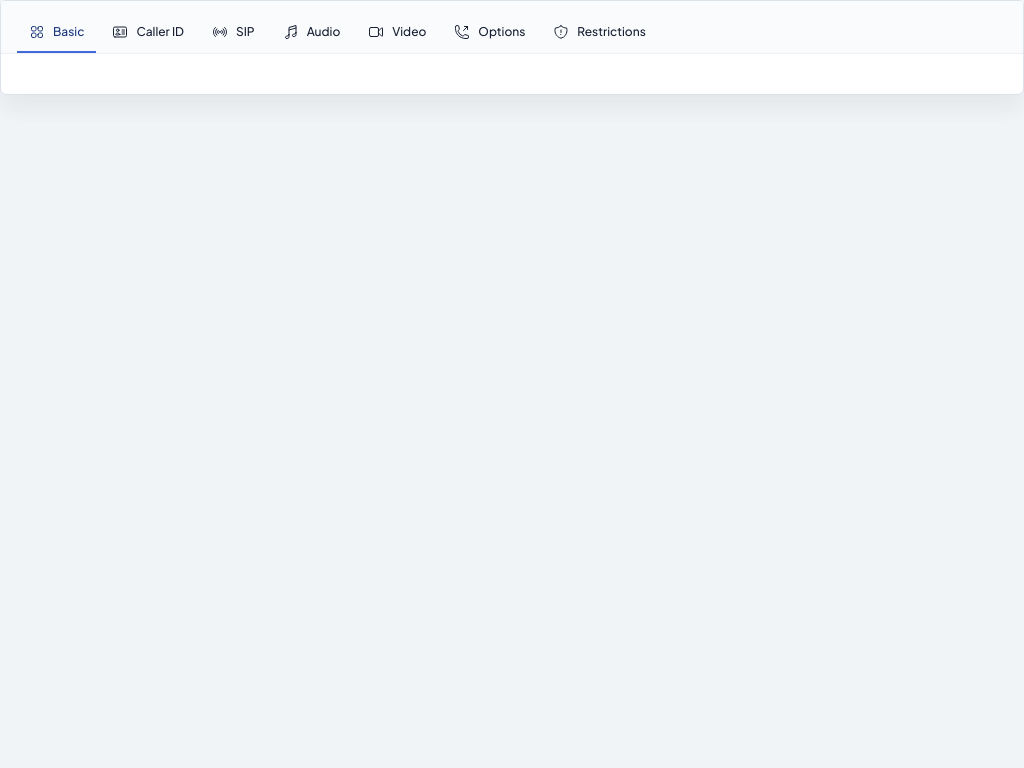
Test case: DeviceAdvancedSettings › shows SIP fields and invite formats advertised by the connected schema
This screenshot has width=1024, height=768.
Click the tab "SIP" at (233, 33), box [200,13,267,53]
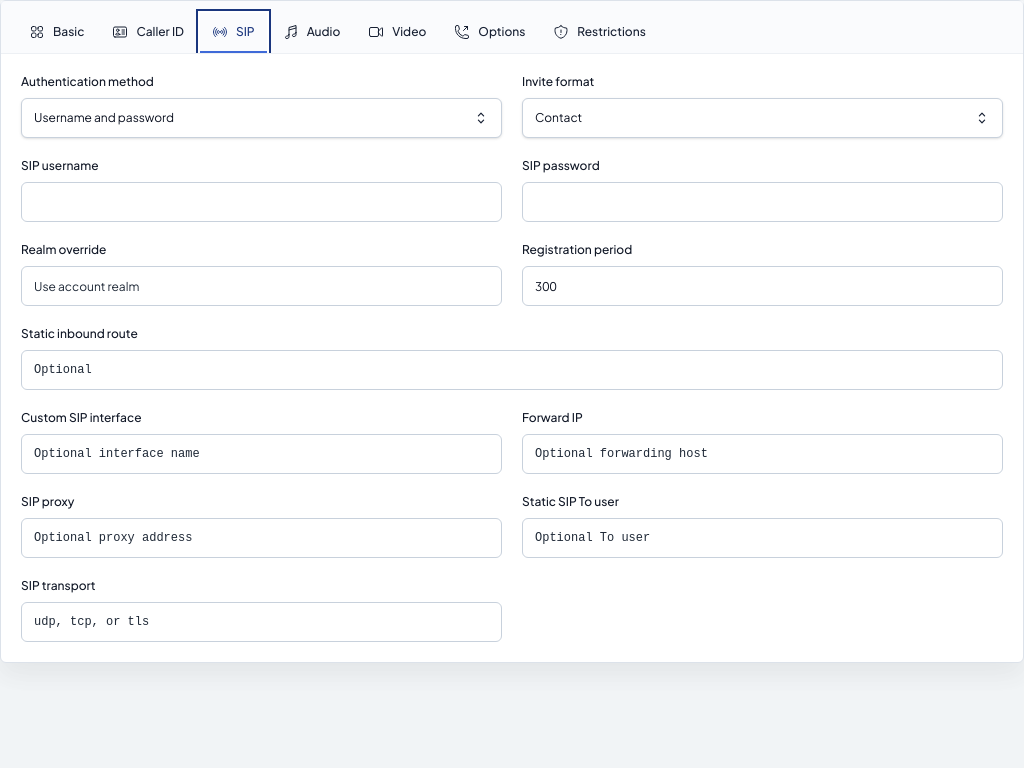
Expected: the text "Custom SIP interface" is shown, [21,410,142,425]
Expected: the text "Forward IP" is shown, [522,410,583,425]
Expected: the text "SIP proxy" is shown, [21,494,74,509]
Click the button "Contact" at (559, 118), box [522,98,1003,138]
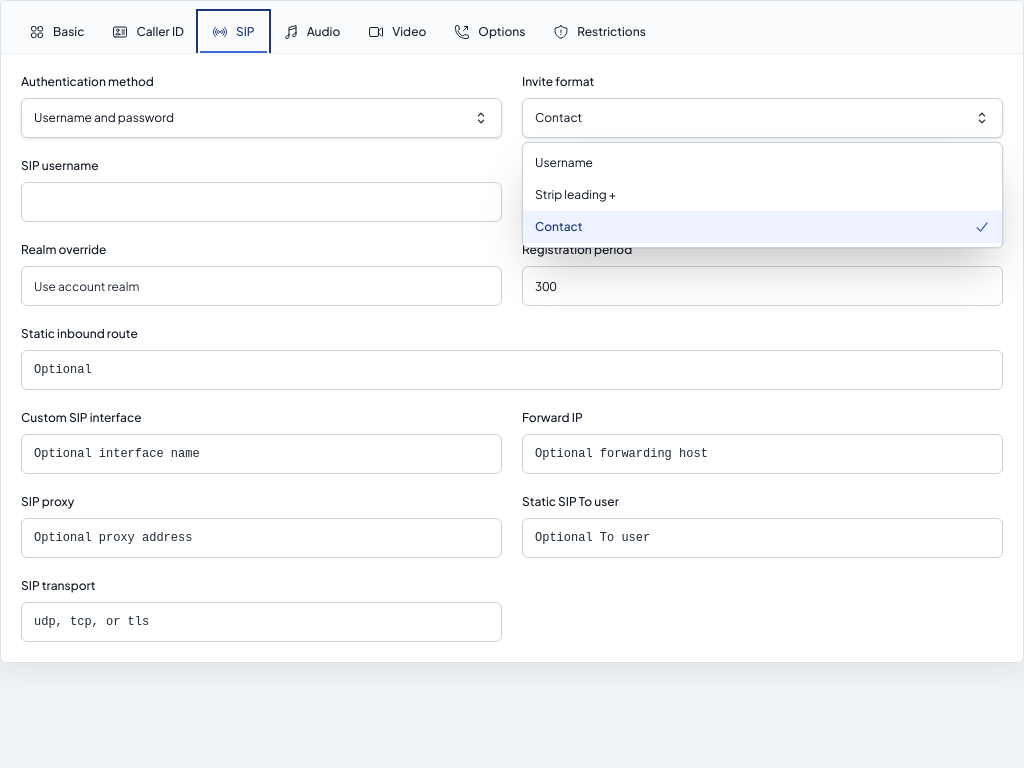
Expected: the text "Strip leading +" is shown, [535,187,616,202]
